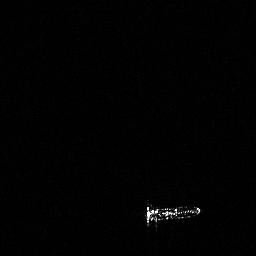ship: (141, 197, 203, 232)
